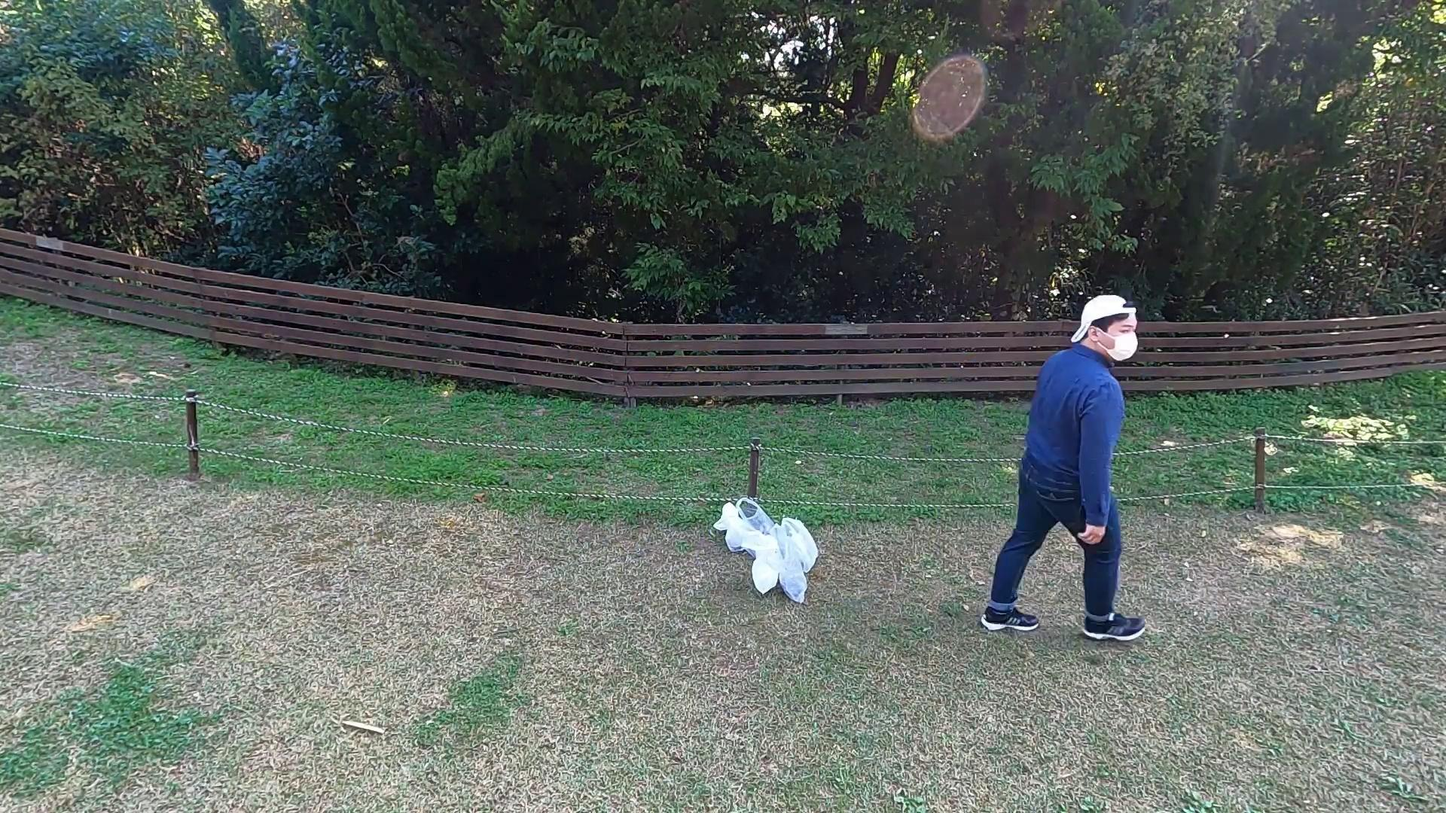person: (978, 288, 1151, 660)
trash: (768, 517, 810, 604), (734, 526, 781, 600), (771, 514, 827, 571), (714, 493, 761, 557), (736, 495, 779, 539)
